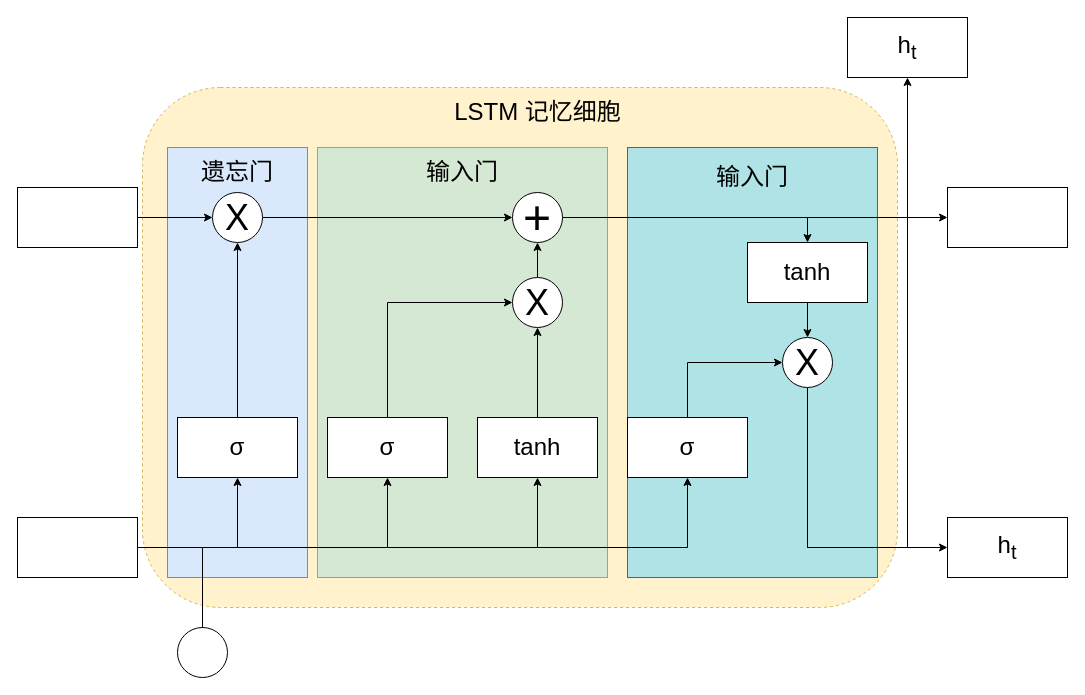
Some shapes in this 1085 by 695 pixel diagram are drawn without their labels. Here are the shapes that lost their labels. From the top down, the centre of each, then its label:
At point (77, 217): "C t-1".
At point (1007, 217): "C t".
At point (77, 547): "h t-1".
At point (202, 652): "X t".
